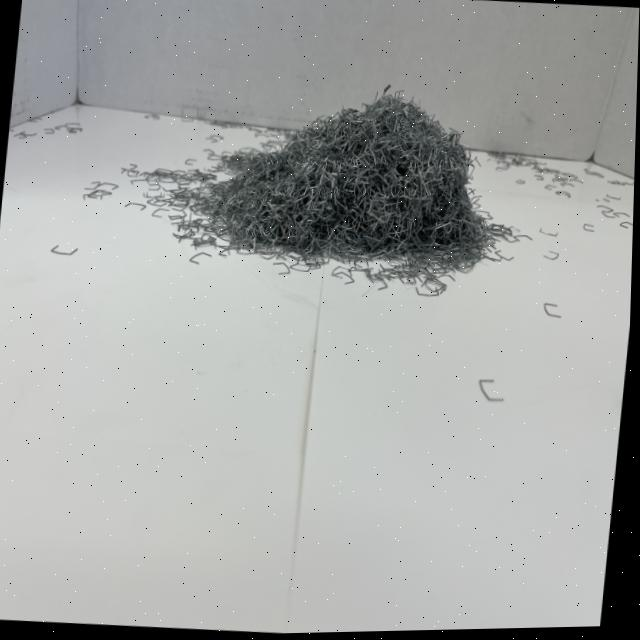staples: (200, 70, 506, 271)
